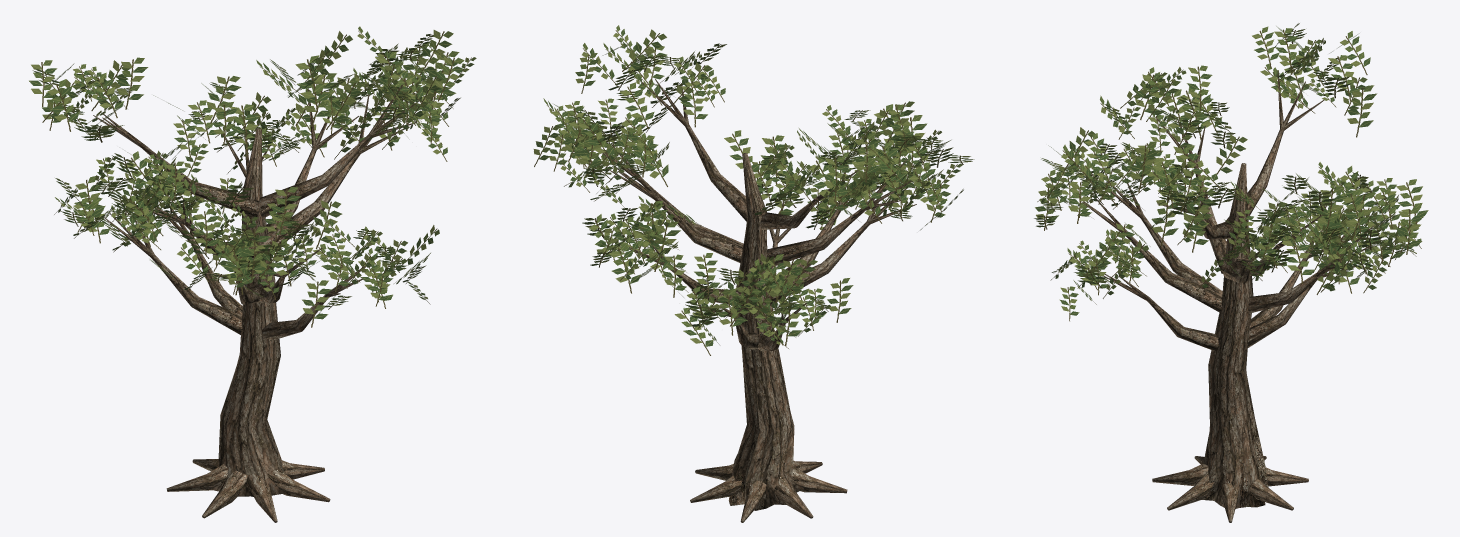
The model's file is oak_b.glb.
3 renders of one model, left to right at view 1: azimuth 30°, elevation 25°; view 2: azimuth 150°, elevation 25°; view 3: azimuth 270°, elevation 25°, orthographic. The views are drawn at different scales.
Parts seen in each view (by area): view 1: OakFoliage.001, OakBark.001; view 2: OakFoliage.001, OakBark.001; view 3: OakFoliage.001, OakBark.001.
Boxes of the visible parts, x1,y1,x2,y2 form: OakFoliage.001: (29,26,476,327); OakBark.001: (93,79,418,522); OakFoliage.001: (533,25,974,355); OakBark.001: (601,79,916,522); OakFoliage.001: (1034,23,1428,321); OakBark.001: (1082,70,1374,522).
Size of the model in its own units: 6.72 by 6.93 by 6.42.
2 materials, 2 textured.
